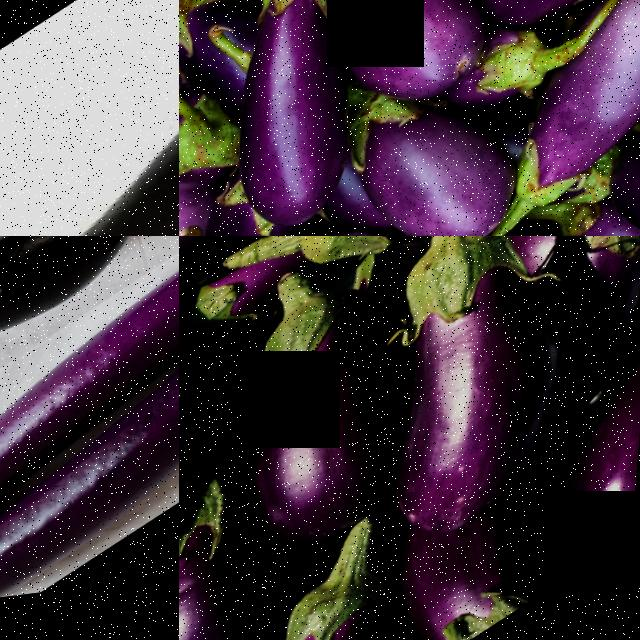eggplant: (188, 278, 449, 568), (346, 236, 617, 511), (179, 0, 422, 236), (0, 236, 179, 518), (0, 355, 179, 620), (0, 0, 179, 236), (474, 0, 640, 224), (388, 476, 607, 640), (0, 236, 168, 447), (338, 78, 539, 236), (526, 355, 640, 584), (179, 488, 339, 640), (179, 236, 388, 350), (239, 549, 455, 640), (465, 0, 640, 74)
